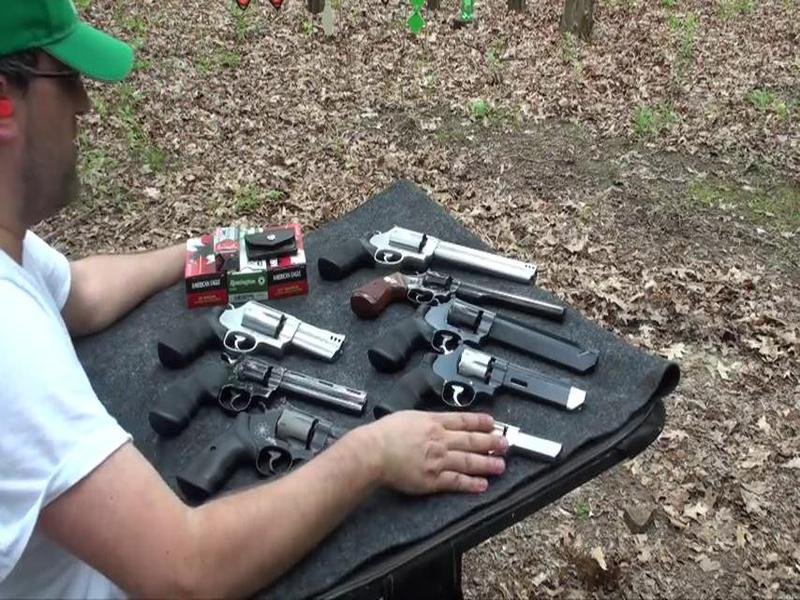Revolver: (341, 256, 579, 332)
